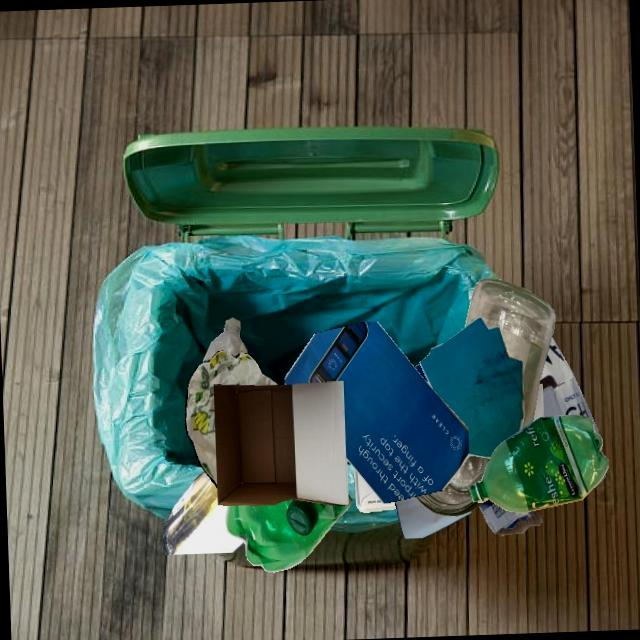cardboard: (423, 337, 605, 508), (213, 380, 348, 505), (532, 383, 543, 421)
glass: (464, 278, 555, 429), (162, 470, 244, 555), (415, 455, 490, 516)
paper: (284, 321, 468, 503), (419, 317, 524, 458), (184, 349, 278, 487), (394, 496, 470, 538), (354, 468, 397, 512)
plastic: (468, 414, 608, 513), (225, 493, 352, 572), (202, 317, 247, 363)
